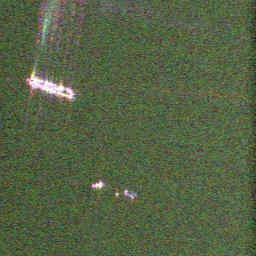Ship: (27, 72, 73, 103), (86, 180, 107, 191)
